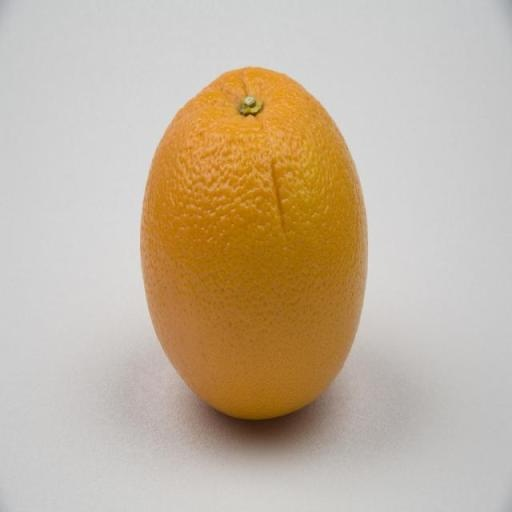fruit: (140, 68, 366, 418)
